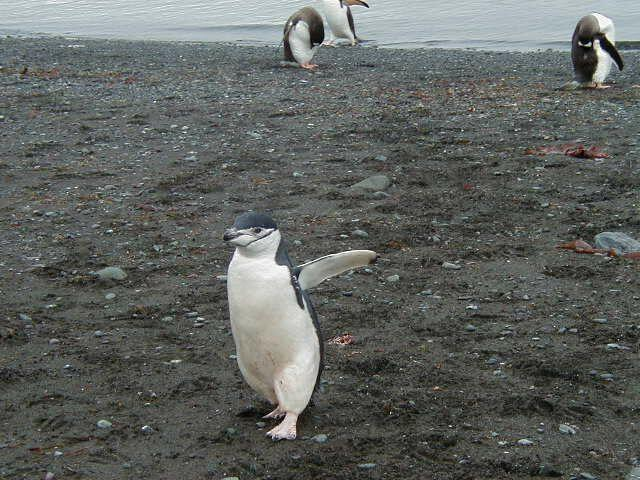Penguin: (224, 213, 376, 441), (571, 13, 623, 87), (284, 6, 324, 68), (323, 0, 369, 45)
